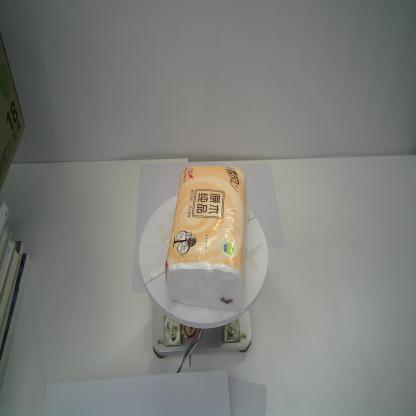Tissue: (164, 162, 248, 312)
